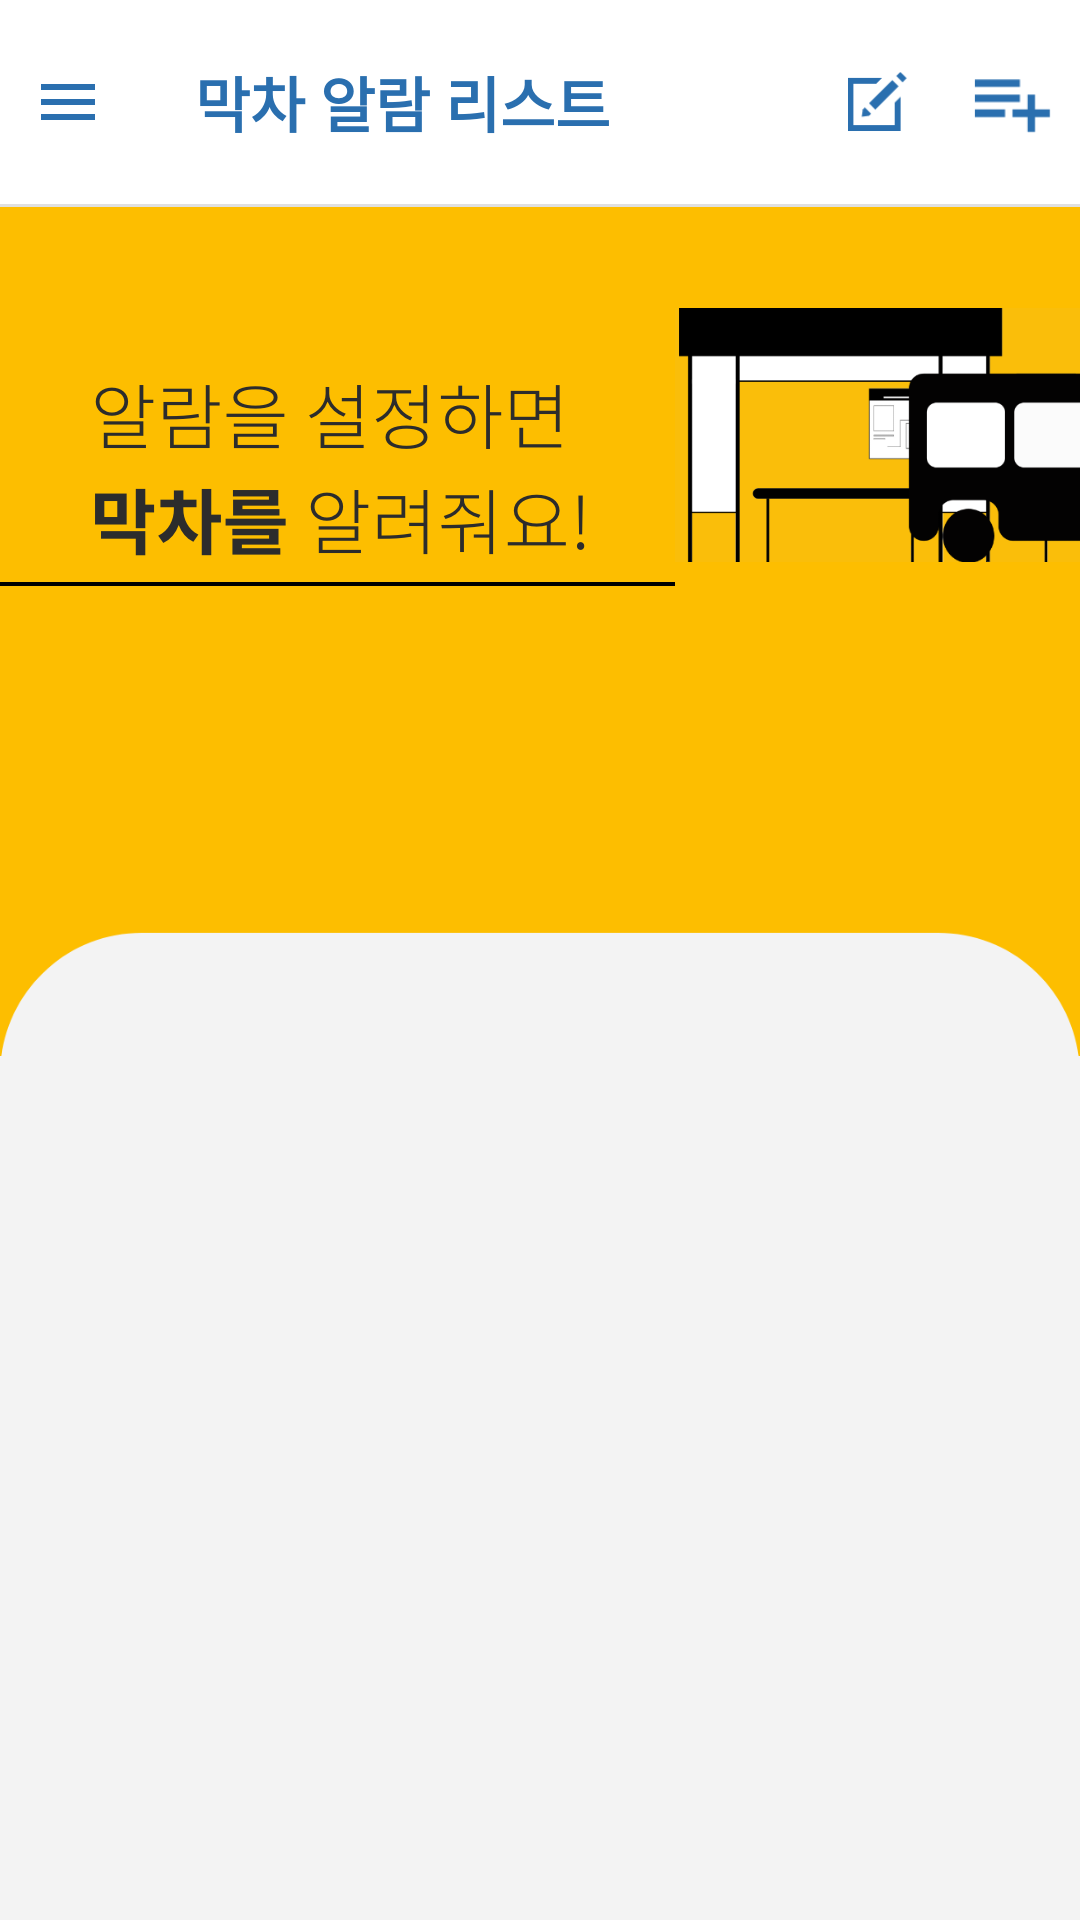

Icons on this 1080 × 1920 Android screen, each with its box as (x1, y1, x2, y2):
menu: (41, 84, 95, 120)
modify: (848, 72, 907, 131)
